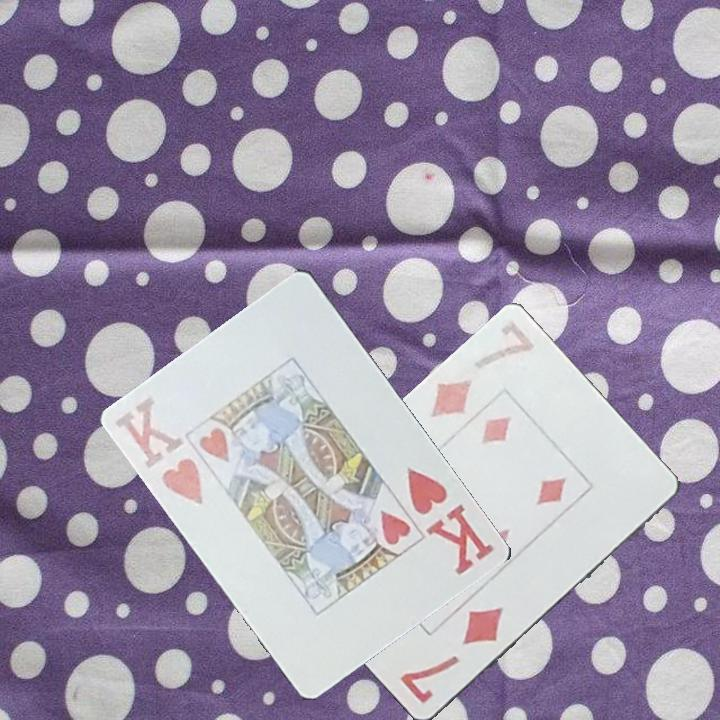7d: (426, 318, 538, 422), (397, 603, 506, 707)
Kh: (112, 392, 209, 508), (403, 463, 498, 579)
